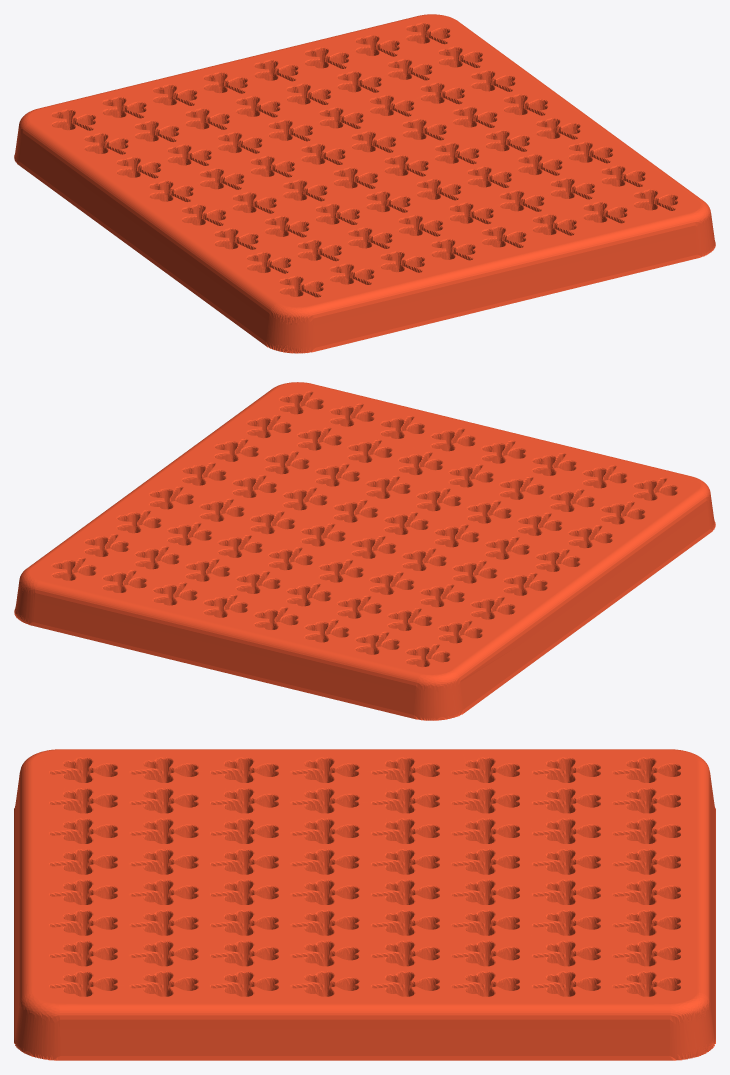
Rendered from mold.glb.
The picture shows the model from 3 angles, top to bottom: view 1: azimuth 30°, elevation 25°; view 2: azimuth 150°, elevation 25°; view 3: azimuth 270°, elevation 25°; orthographic projection. The views are drawn at different scales.
Parts seen in each view (by area): view 1: geometry_0; view 2: geometry_0; view 3: geometry_0.
Boxes of the visible parts, left/top/right/bottom form: geometry_0: left=14, top=14, right=715, bottom=353; geometry_0: left=14, top=382, right=715, bottom=720; geometry_0: left=14, top=749, right=715, bottom=1060.
Bounding box in the file's own units: 0.1229 × 0.0105 × 0.1355.
